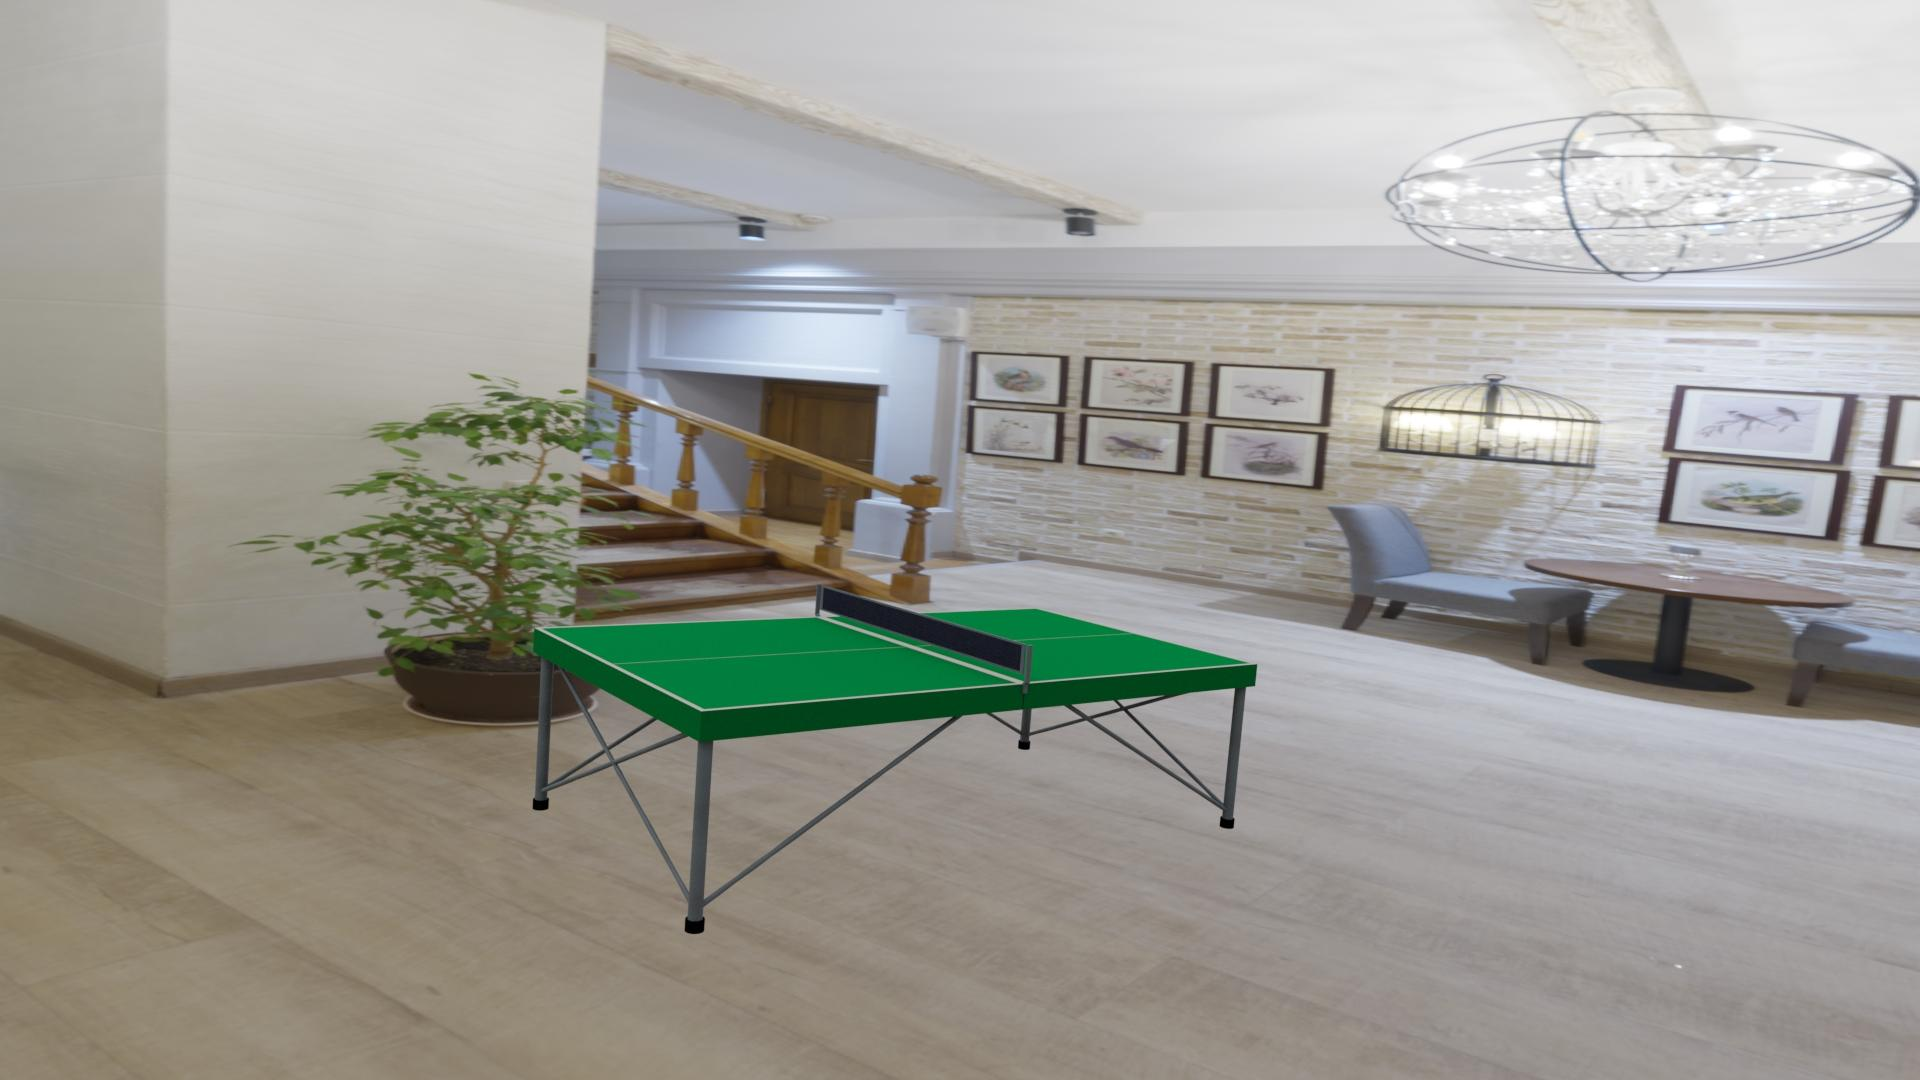table: (541, 608, 1251, 709)
